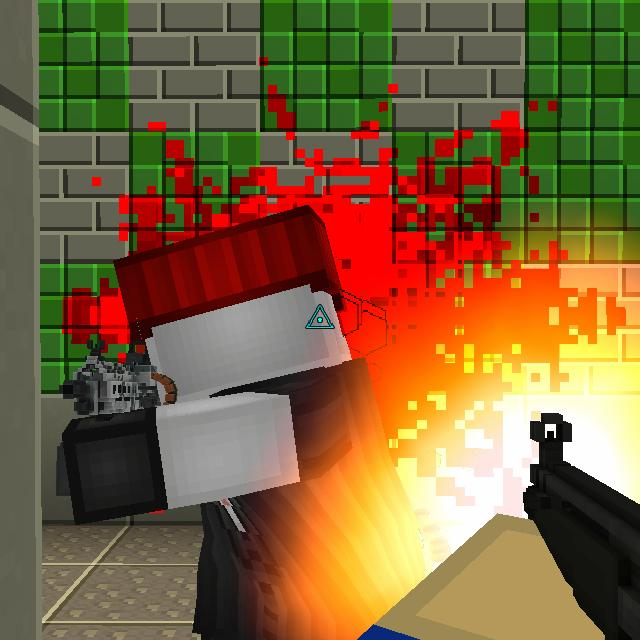enemy: (48, 204, 431, 640)
